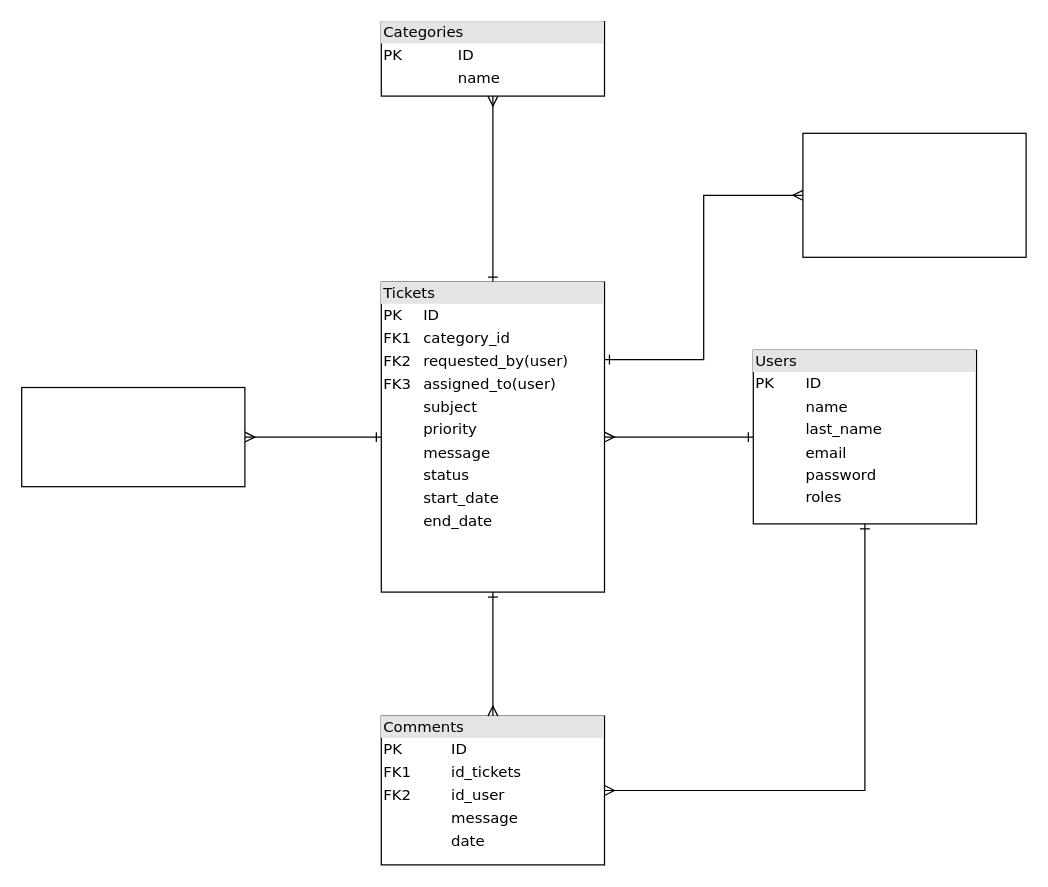
The diagram is 1048 pixels wide and 887 high, and some of its shapes have lost their labels. The shapes that lost their labels are listed below. From the top down, each one's box as (x1, y1, x2, y2) in pixels, then its label:
(802, 132, 1026, 257): Status PK ID FK1 id_tickets status previous_status
(20, 386, 245, 487): Attachment PK ID FK1 id_tickets file
